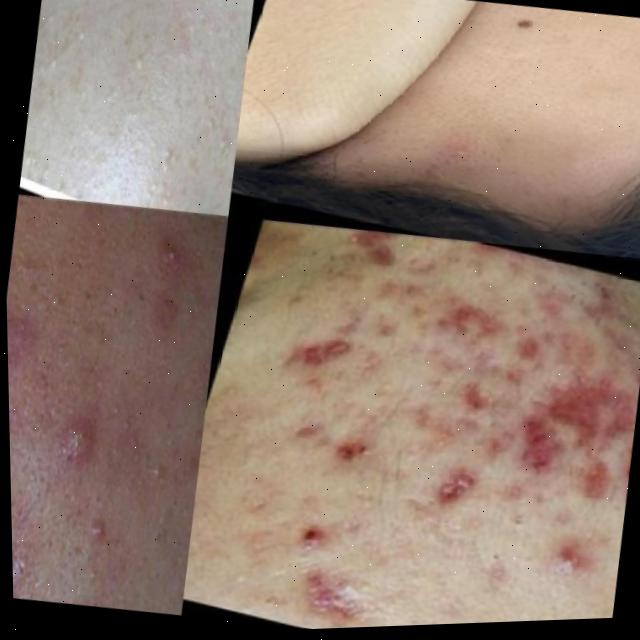Acne: (299, 257, 640, 567), (7, 285, 271, 628), (55, 0, 223, 133), (417, 128, 512, 199)
